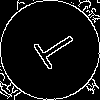T: (25, 25, 80, 76)
